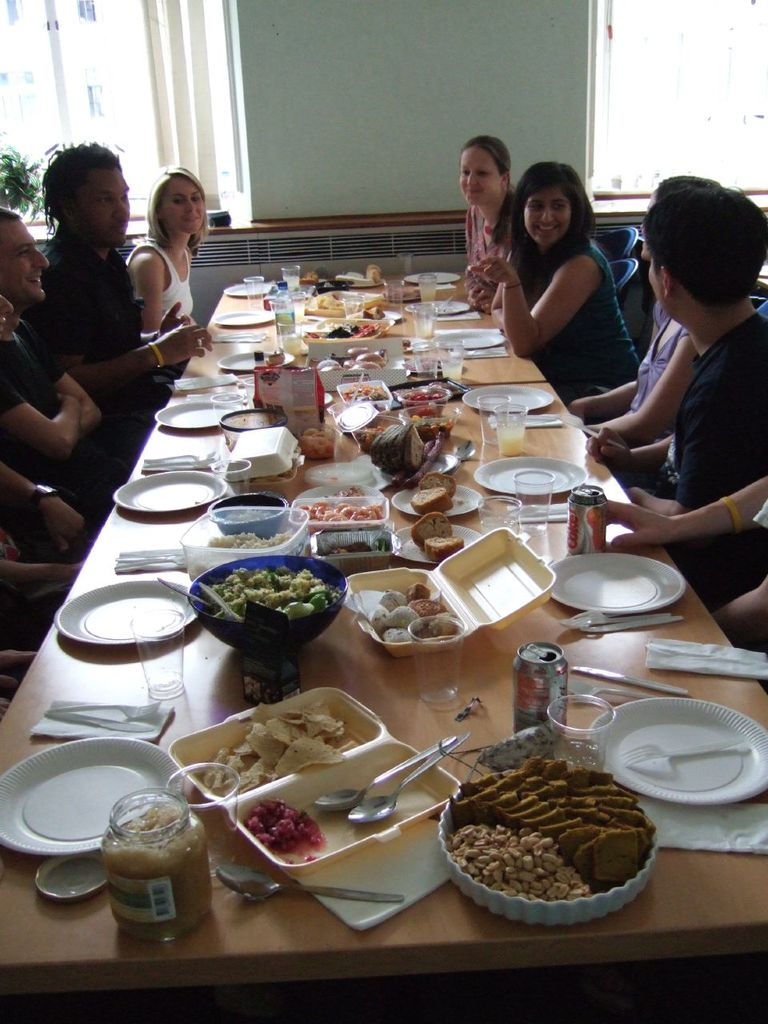salad: (194, 561, 345, 630)
